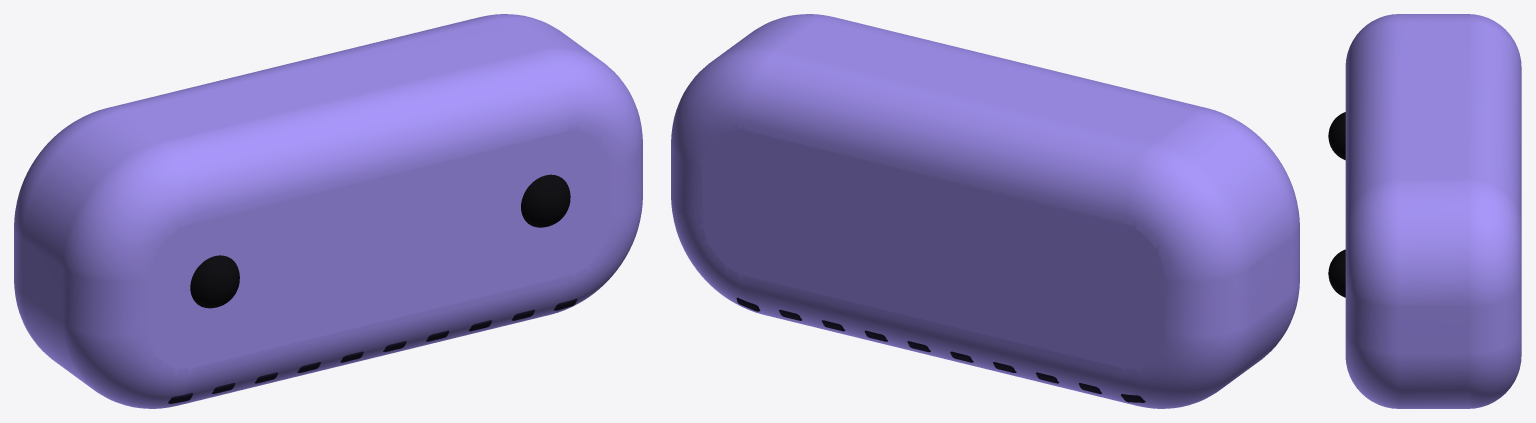
Rendered from bendly.glb.
3 renders of one model, left to right at view 1: azimuth 30°, elevation 25°; view 2: azimuth 150°, elevation 25°; view 3: azimuth 270°, elevation 25°, orthographic. The views are drawn at different scales.
Visible parts, largest first — view 1: Shell, EyeL, EyeR; view 2: Shell; view 3: Shell, EyeL, EyeR.
Part boxes in pixels (box(x1,y1,x2,y2)): Shell: box(14, 14, 642, 408); EyeL: box(190, 255, 239, 308); EyeR: box(521, 174, 570, 227); Shell: box(671, 14, 1299, 408); Shell: box(1345, 14, 1521, 408); EyeL: box(1328, 112, 1345, 160); EyeR: box(1328, 249, 1345, 297).
Size of the model in its own units: 2.3 by 1 by 0.79.
